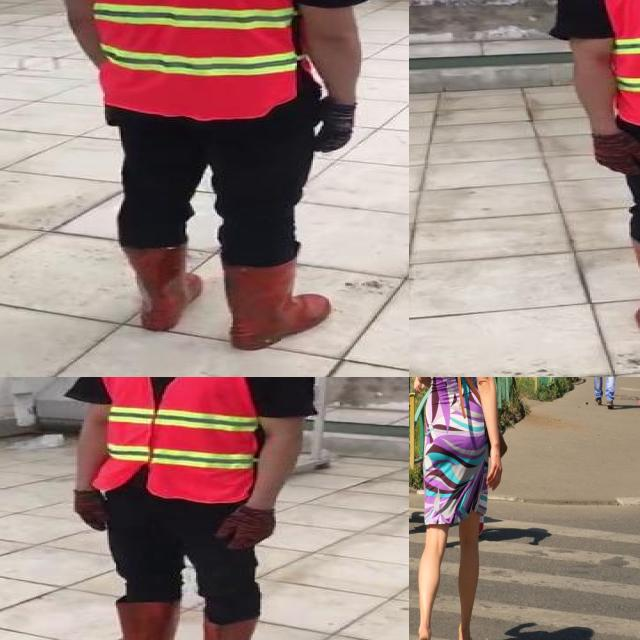Barefoots: (457, 634, 478, 640)
boots: (222, 256, 331, 352), (112, 242, 203, 332), (82, 601, 181, 640), (185, 617, 258, 640)
hand_glove: (215, 506, 278, 551), (590, 130, 640, 177), (311, 100, 352, 154), (72, 489, 110, 532)
person: (43, 0, 388, 352), (65, 377, 319, 640), (554, 0, 640, 337)
vest: (58, 0, 307, 119), (92, 377, 265, 499)
